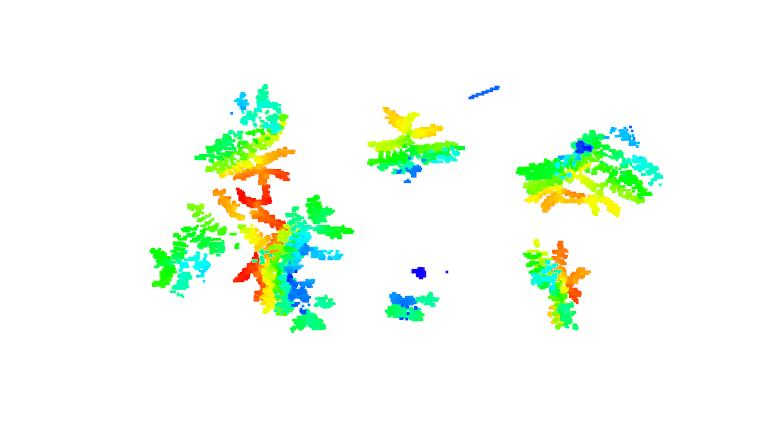chickpea: (250, 192, 352, 340), (192, 86, 306, 187), (141, 189, 247, 294), (564, 125, 663, 222), (367, 104, 466, 184), (520, 233, 592, 334), (513, 159, 587, 212), (384, 262, 436, 331)
